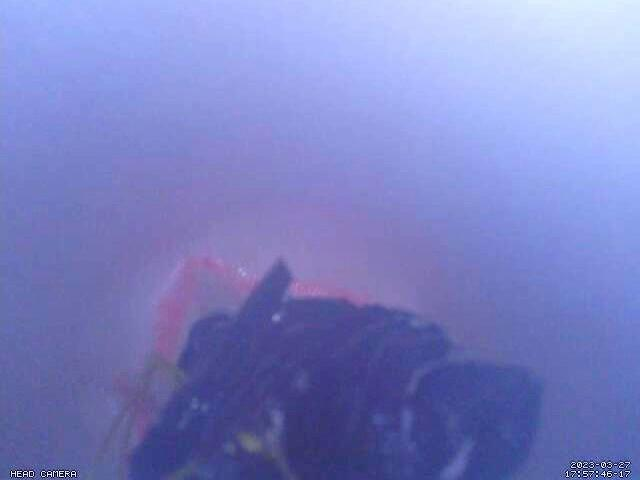head: (115, 252, 369, 436)
